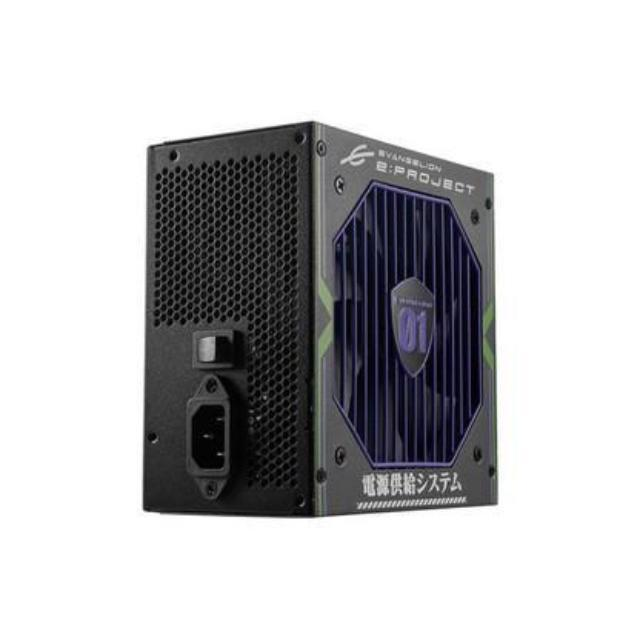PSU: (124, 101, 507, 534)
